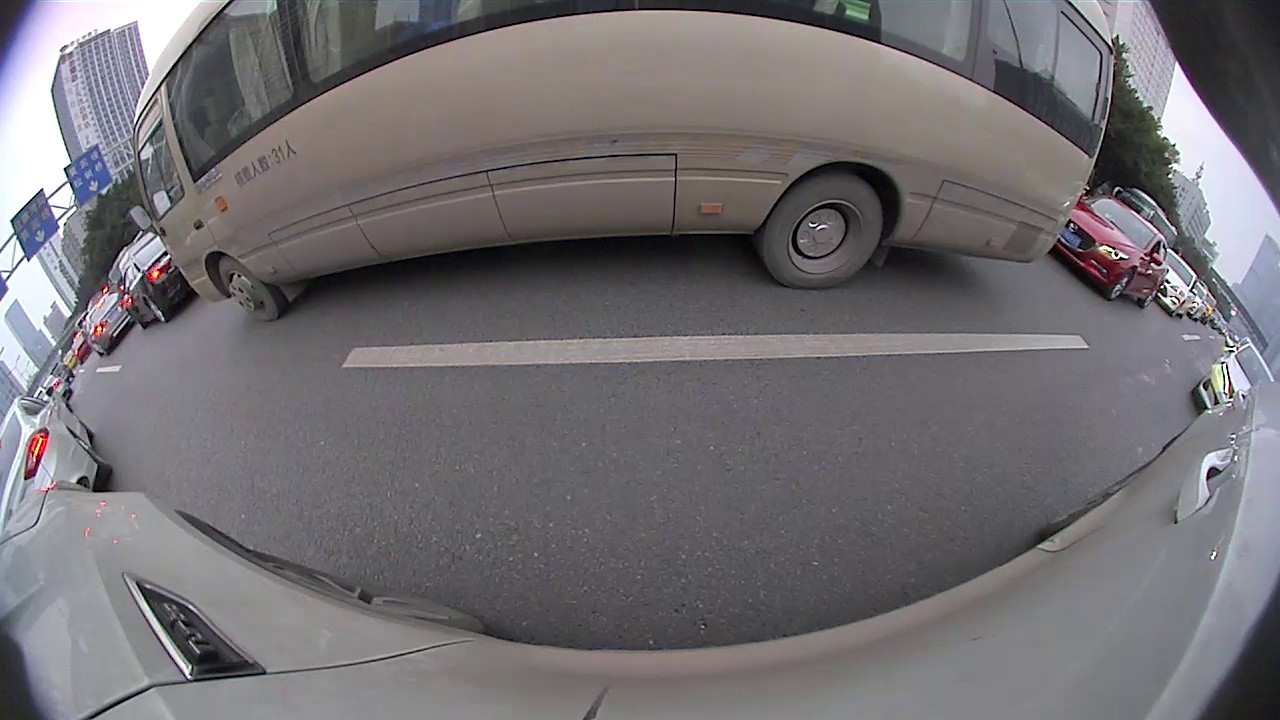bus: (135, 1, 1115, 320)
car: (1, 398, 111, 525), (1053, 197, 1162, 307), (111, 231, 201, 325), (1192, 341, 1274, 417), (1145, 248, 1192, 316), (83, 287, 131, 352)
front: (217, 256, 285, 321), (1107, 268, 1134, 299)
rear: (763, 172, 886, 290), (144, 298, 170, 322), (1139, 285, 1159, 306)
